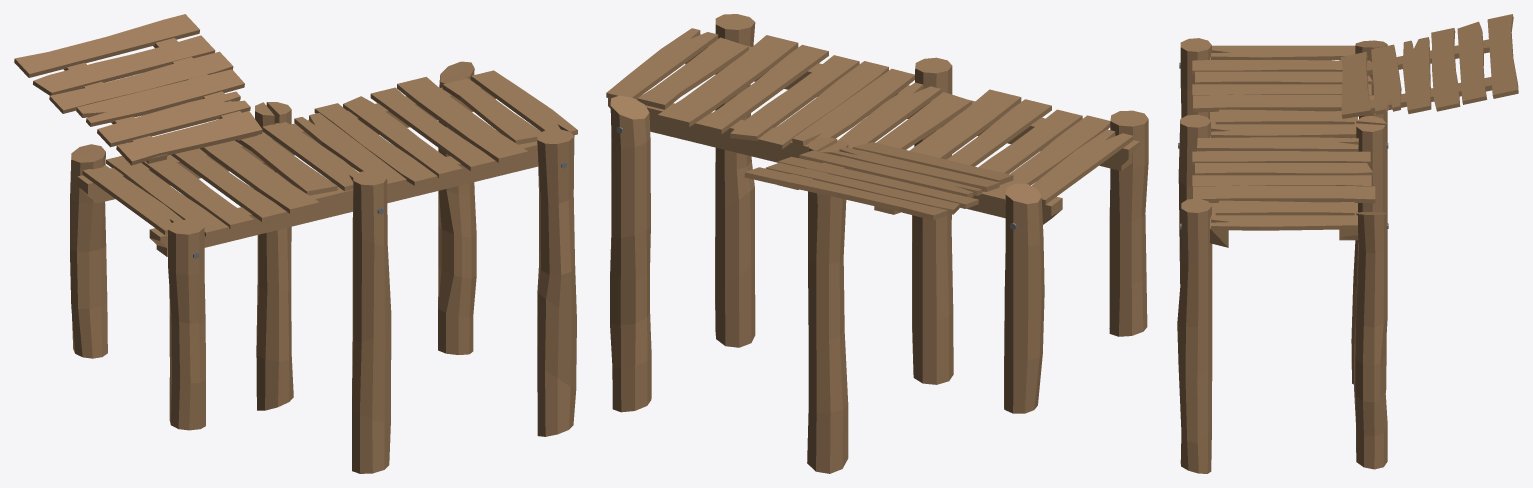
Rendered from QuayQuer.fbx.
The picture shows the model from 3 angles, left to right: view 1: azimuth 30°, elevation 25°; view 2: azimuth 150°, elevation 25°; view 3: azimuth 270°, elevation 25°; orthographic projection. The views are drawn at different scales.
Parts seen in each view (by area): view 1: QuayQuer_Model; view 2: QuayQuer_Model; view 3: QuayQuer_Model.
Boxes of the visible parts, <box> form: QuayQuer_Model: <box>14,14,577,473</box>; QuayQuer_Model: <box>606,14,1148,473</box>; QuayQuer_Model: <box>1177,14,1518,473</box>.
Size of the model in its own units: 329 by 252 by 259.
